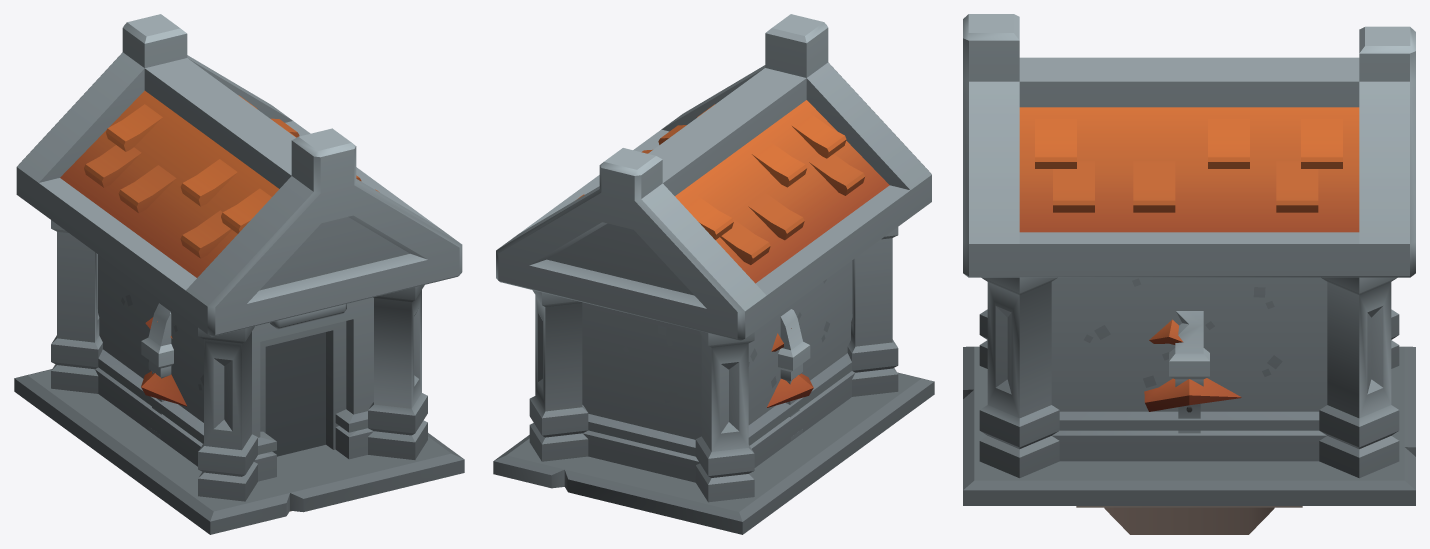
Rendered from kit_graveyard.glb.
3 views of the same model, side by side, from view 1: azimuth 30°, elevation 25°; view 2: azimuth 150°, elevation 25°; view 3: azimuth 270°, elevation 25° (orthographic). The views are drawn at different scales.
Visible parts, largest first — view 1: crypt, arch, tree_pine_orange_large; view 2: crypt, arch, tree_pine_orange_large; view 3: crypt, floor_dirt_grave, arch, tree_pine_orange_large.
Part boxes in pixels (x1,y1,x2,y2): crypt: [14, 14, 464, 534]; arch: [141, 303, 173, 439]; tree_pine_orange_large: [141, 317, 187, 406]; crypt: [493, 14, 934, 534]; arch: [778, 309, 810, 441]; tree_pine_orange_large: [767, 328, 813, 407]; crypt: [963, 14, 1415, 505]; floor_dirt_grave: [1104, 507, 1274, 534]; arch: [1169, 311, 1209, 433]; tree_pine_orange_large: [1144, 319, 1241, 411].
Size of the model in its own units: 6 by 9.5 by 8.
Materials: 1 (1 with a texture image).
